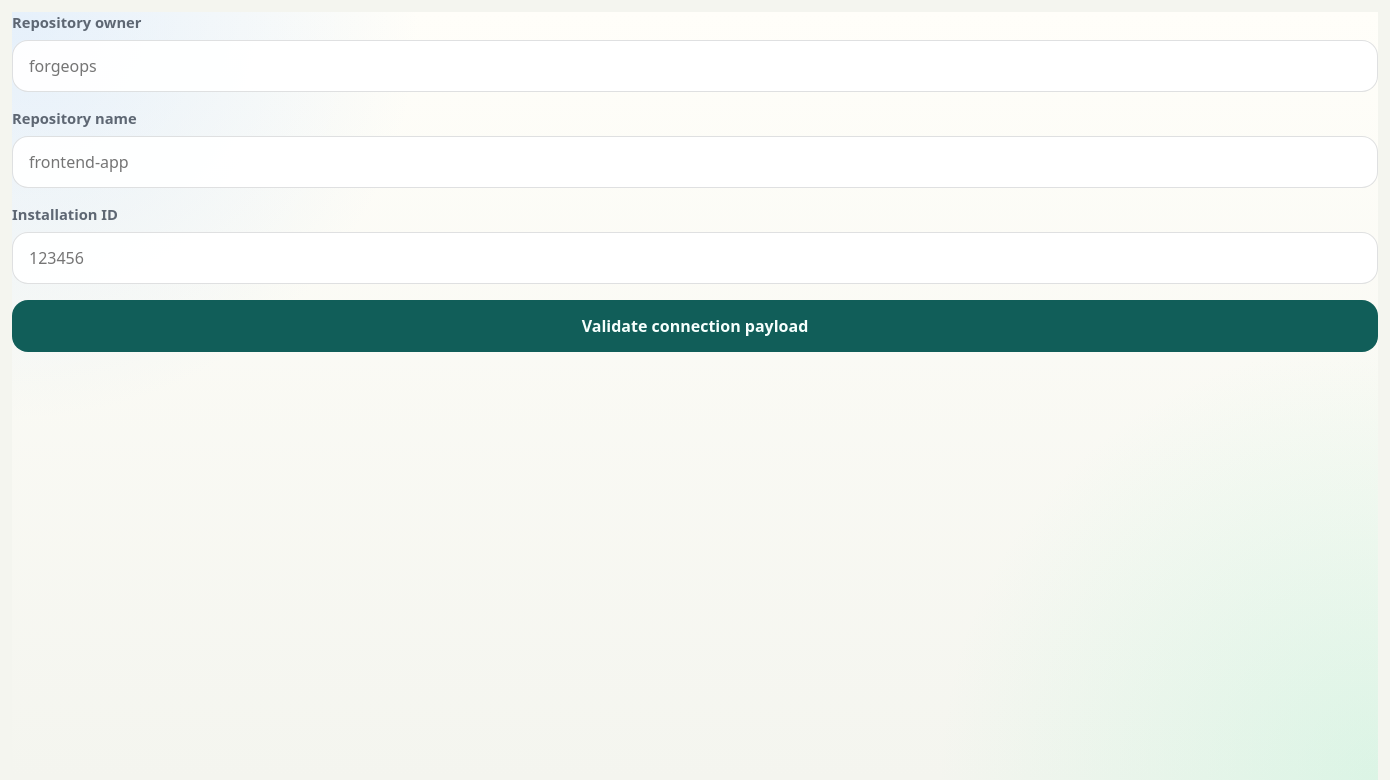
Scenario: RepositoryConnectionForm › should show validation errors for invalid values
Type "A" into the field labelled "Repository owner". click: (695, 66)
box: [12,40,1378,92]
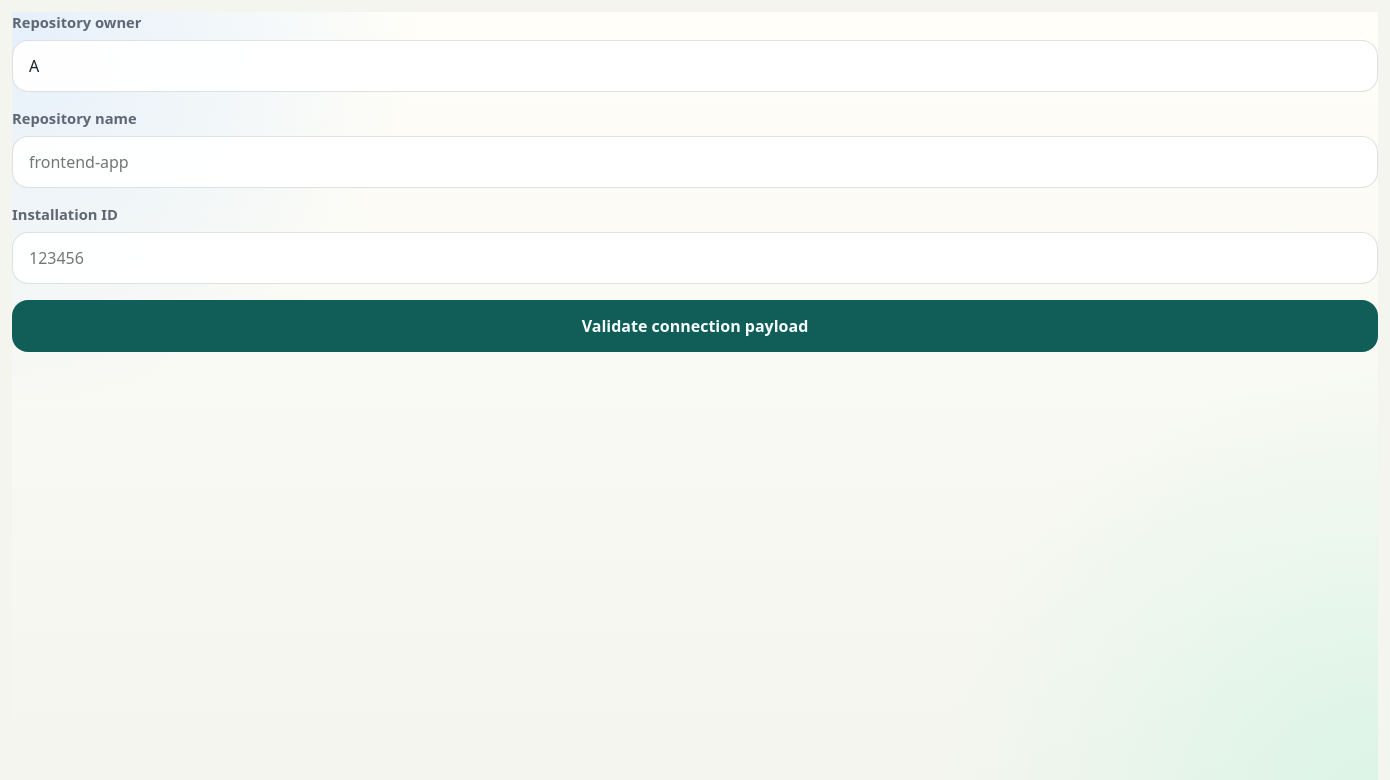
Type "invalid repo" into the field labelled "Repository name". click: (695, 162)
box: [12,136,1378,188]
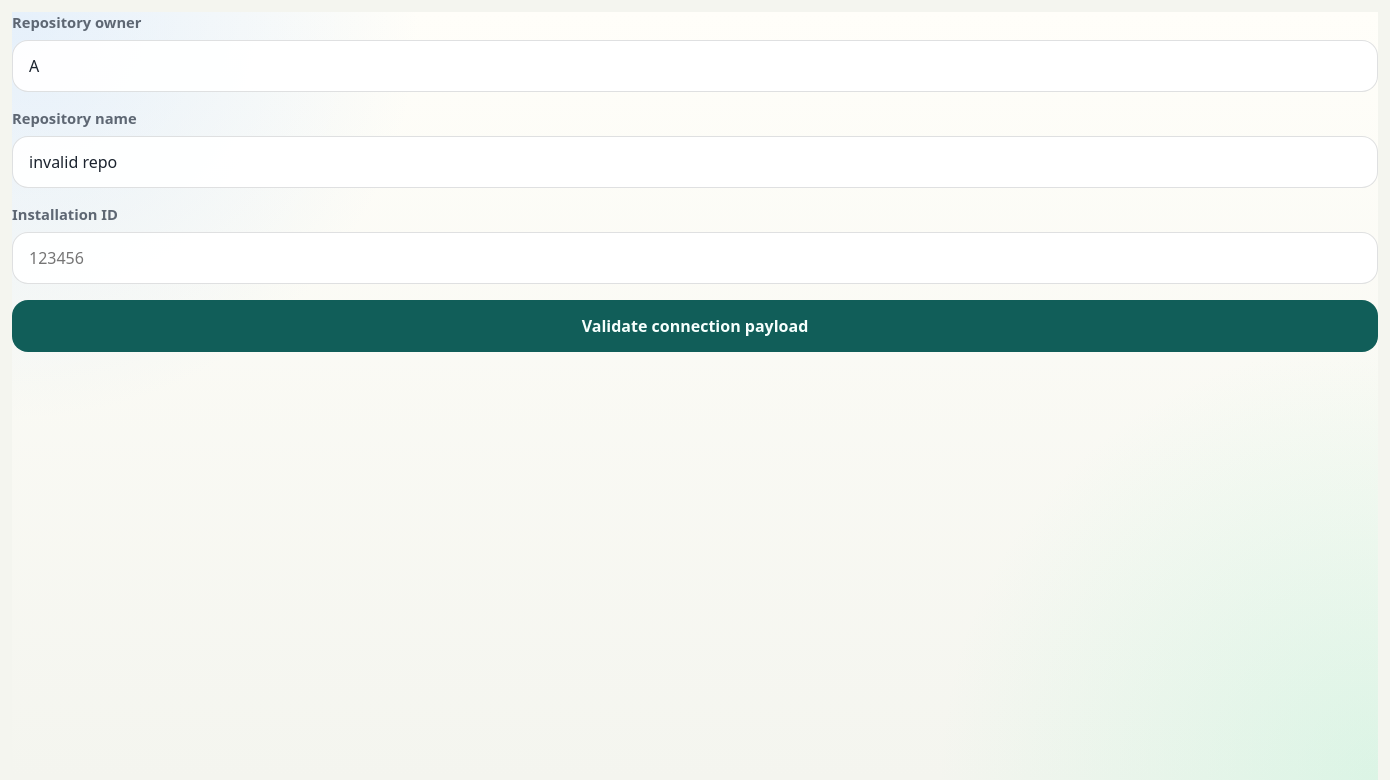
Click the button "Validate connection payload". click: (695, 326)
box: [12,300,1378,352]
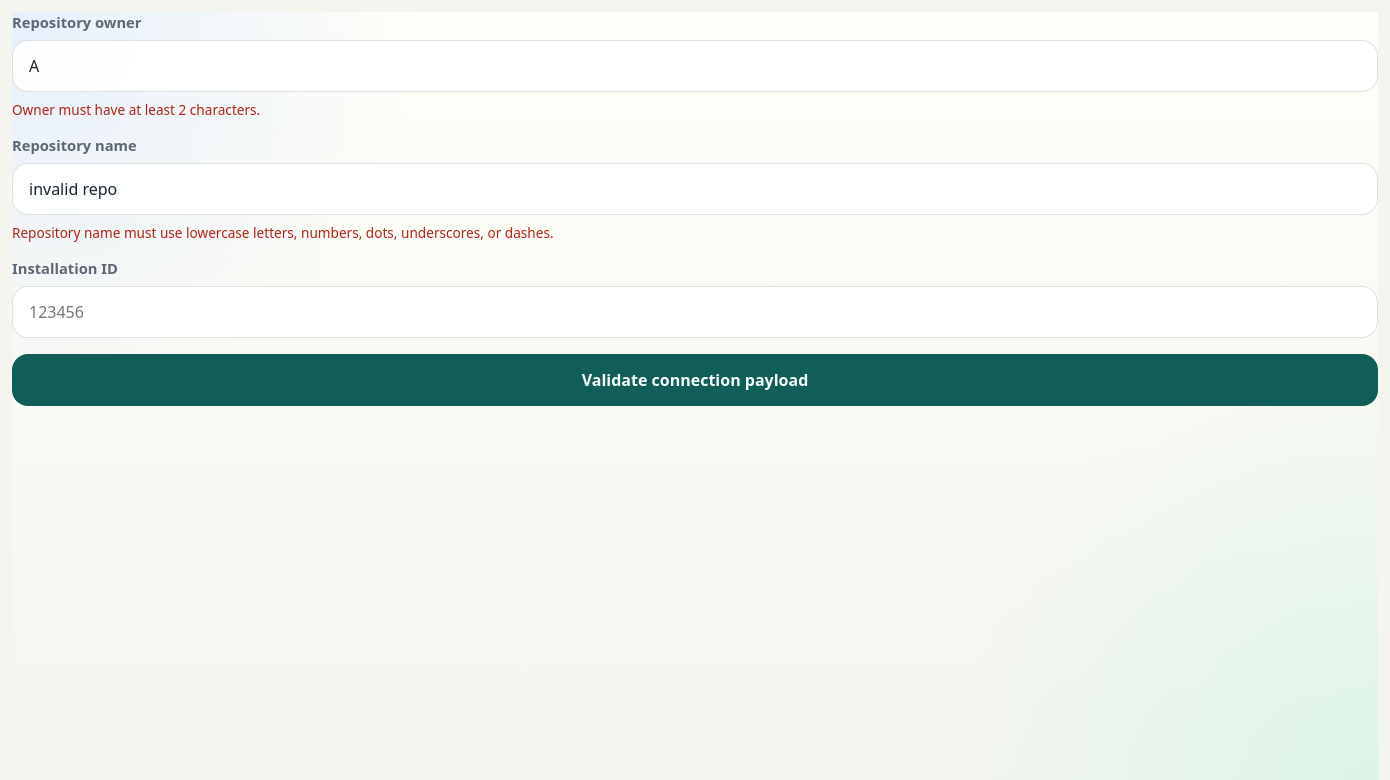
Check: the text "Owner must have at least 2 characters." is shown, box [12,100,260,119]
Check: the text "Repository name must use lowercase letters, numbers, dots, underscores, or dashes." is shown, box [12,223,554,242]
